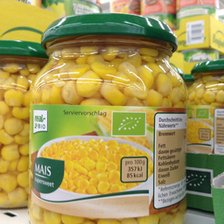corn: (28, 13, 187, 223)
